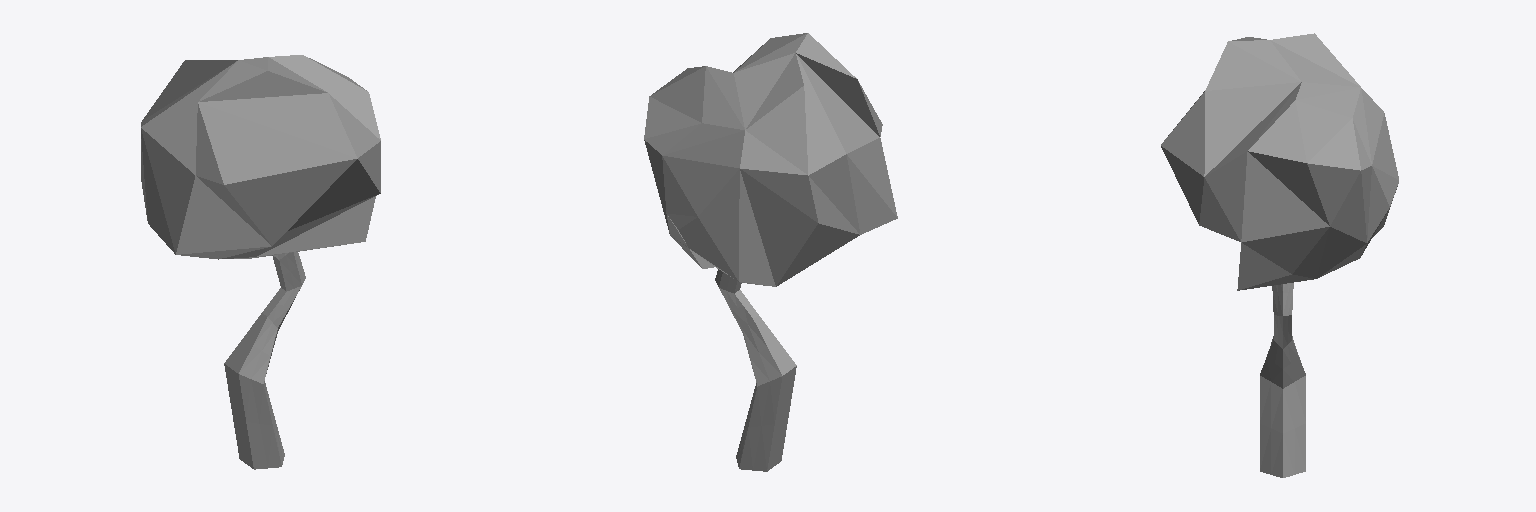
The model's file is tree2_xs_mapped.obj.
The picture shows the model from 3 angles: view 1: azimuth 30°, elevation 25°; view 2: azimuth 150°, elevation 25°; view 3: azimuth 270°, elevation 25°; orthographic projection.
Visible parts, largest first — view 1: Cylinder002.002; view 2: Cylinder002.002; view 3: Cylinder002.002.
Boxes of the visible parts, x1,y1,x2,y2 form: Cylinder002.002: [141, 55, 380, 469]; Cylinder002.002: [644, 33, 897, 471]; Cylinder002.002: [1161, 33, 1398, 477].
Size of the model in its own units: 2.17 by 4.1 by 2.14.